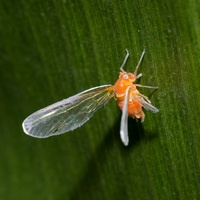insect: (22, 48, 158, 145)
